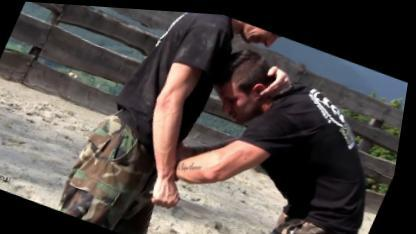knife: (145, 176, 228, 222)
